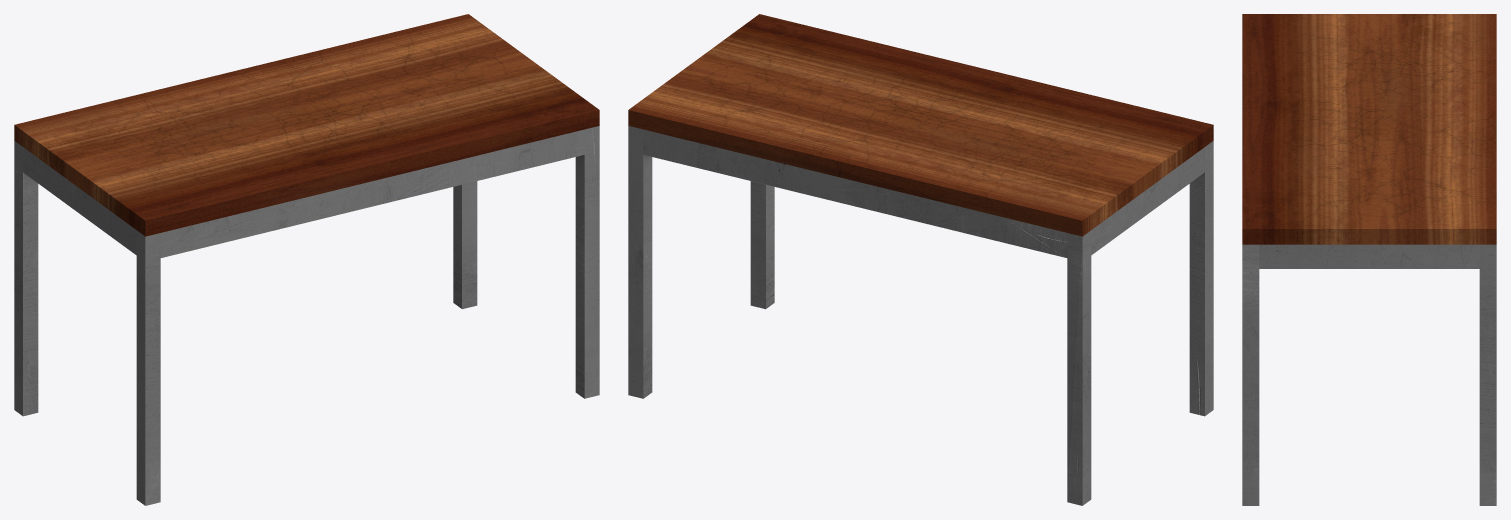
Rendered from Tisch.glb.
3 renders of one model, left to right at view 1: azimuth 30°, elevation 25°; view 2: azimuth 150°, elevation 25°; view 3: azimuth 270°, elevation 25°, orthographic. The views are drawn at different scales.
Parts seen in each view (by area): view 1: table3:polySurface1; view 2: table3:polySurface1; view 3: table3:polySurface1.
Boxes of the visible parts, x1,y1,x2,y2 form: table3:polySurface1: [14, 14, 599, 505]; table3:polySurface1: [628, 14, 1213, 505]; table3:polySurface1: [1242, 14, 1496, 505].
Size of the model in its own units: 2 by 1.2 by 1.
Materials: 1 (1 with a texture image).
